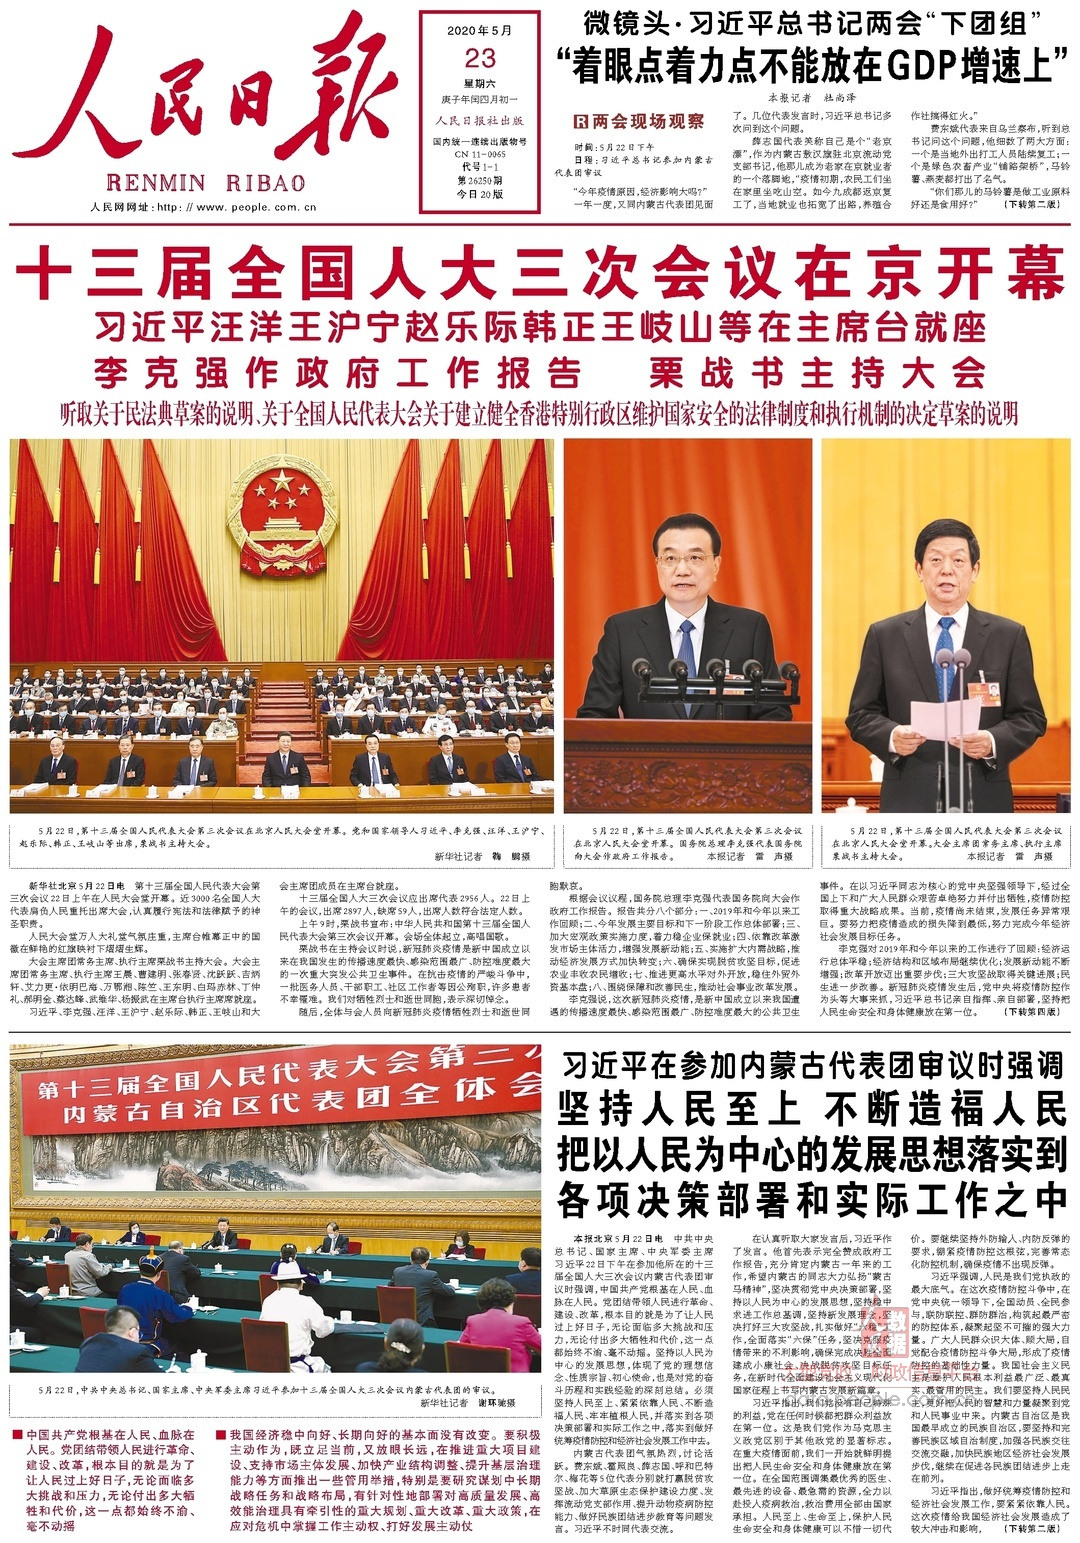pic: (5, 433, 558, 820), (5, 1038, 546, 1380), (561, 433, 819, 818), (821, 433, 1076, 822)
